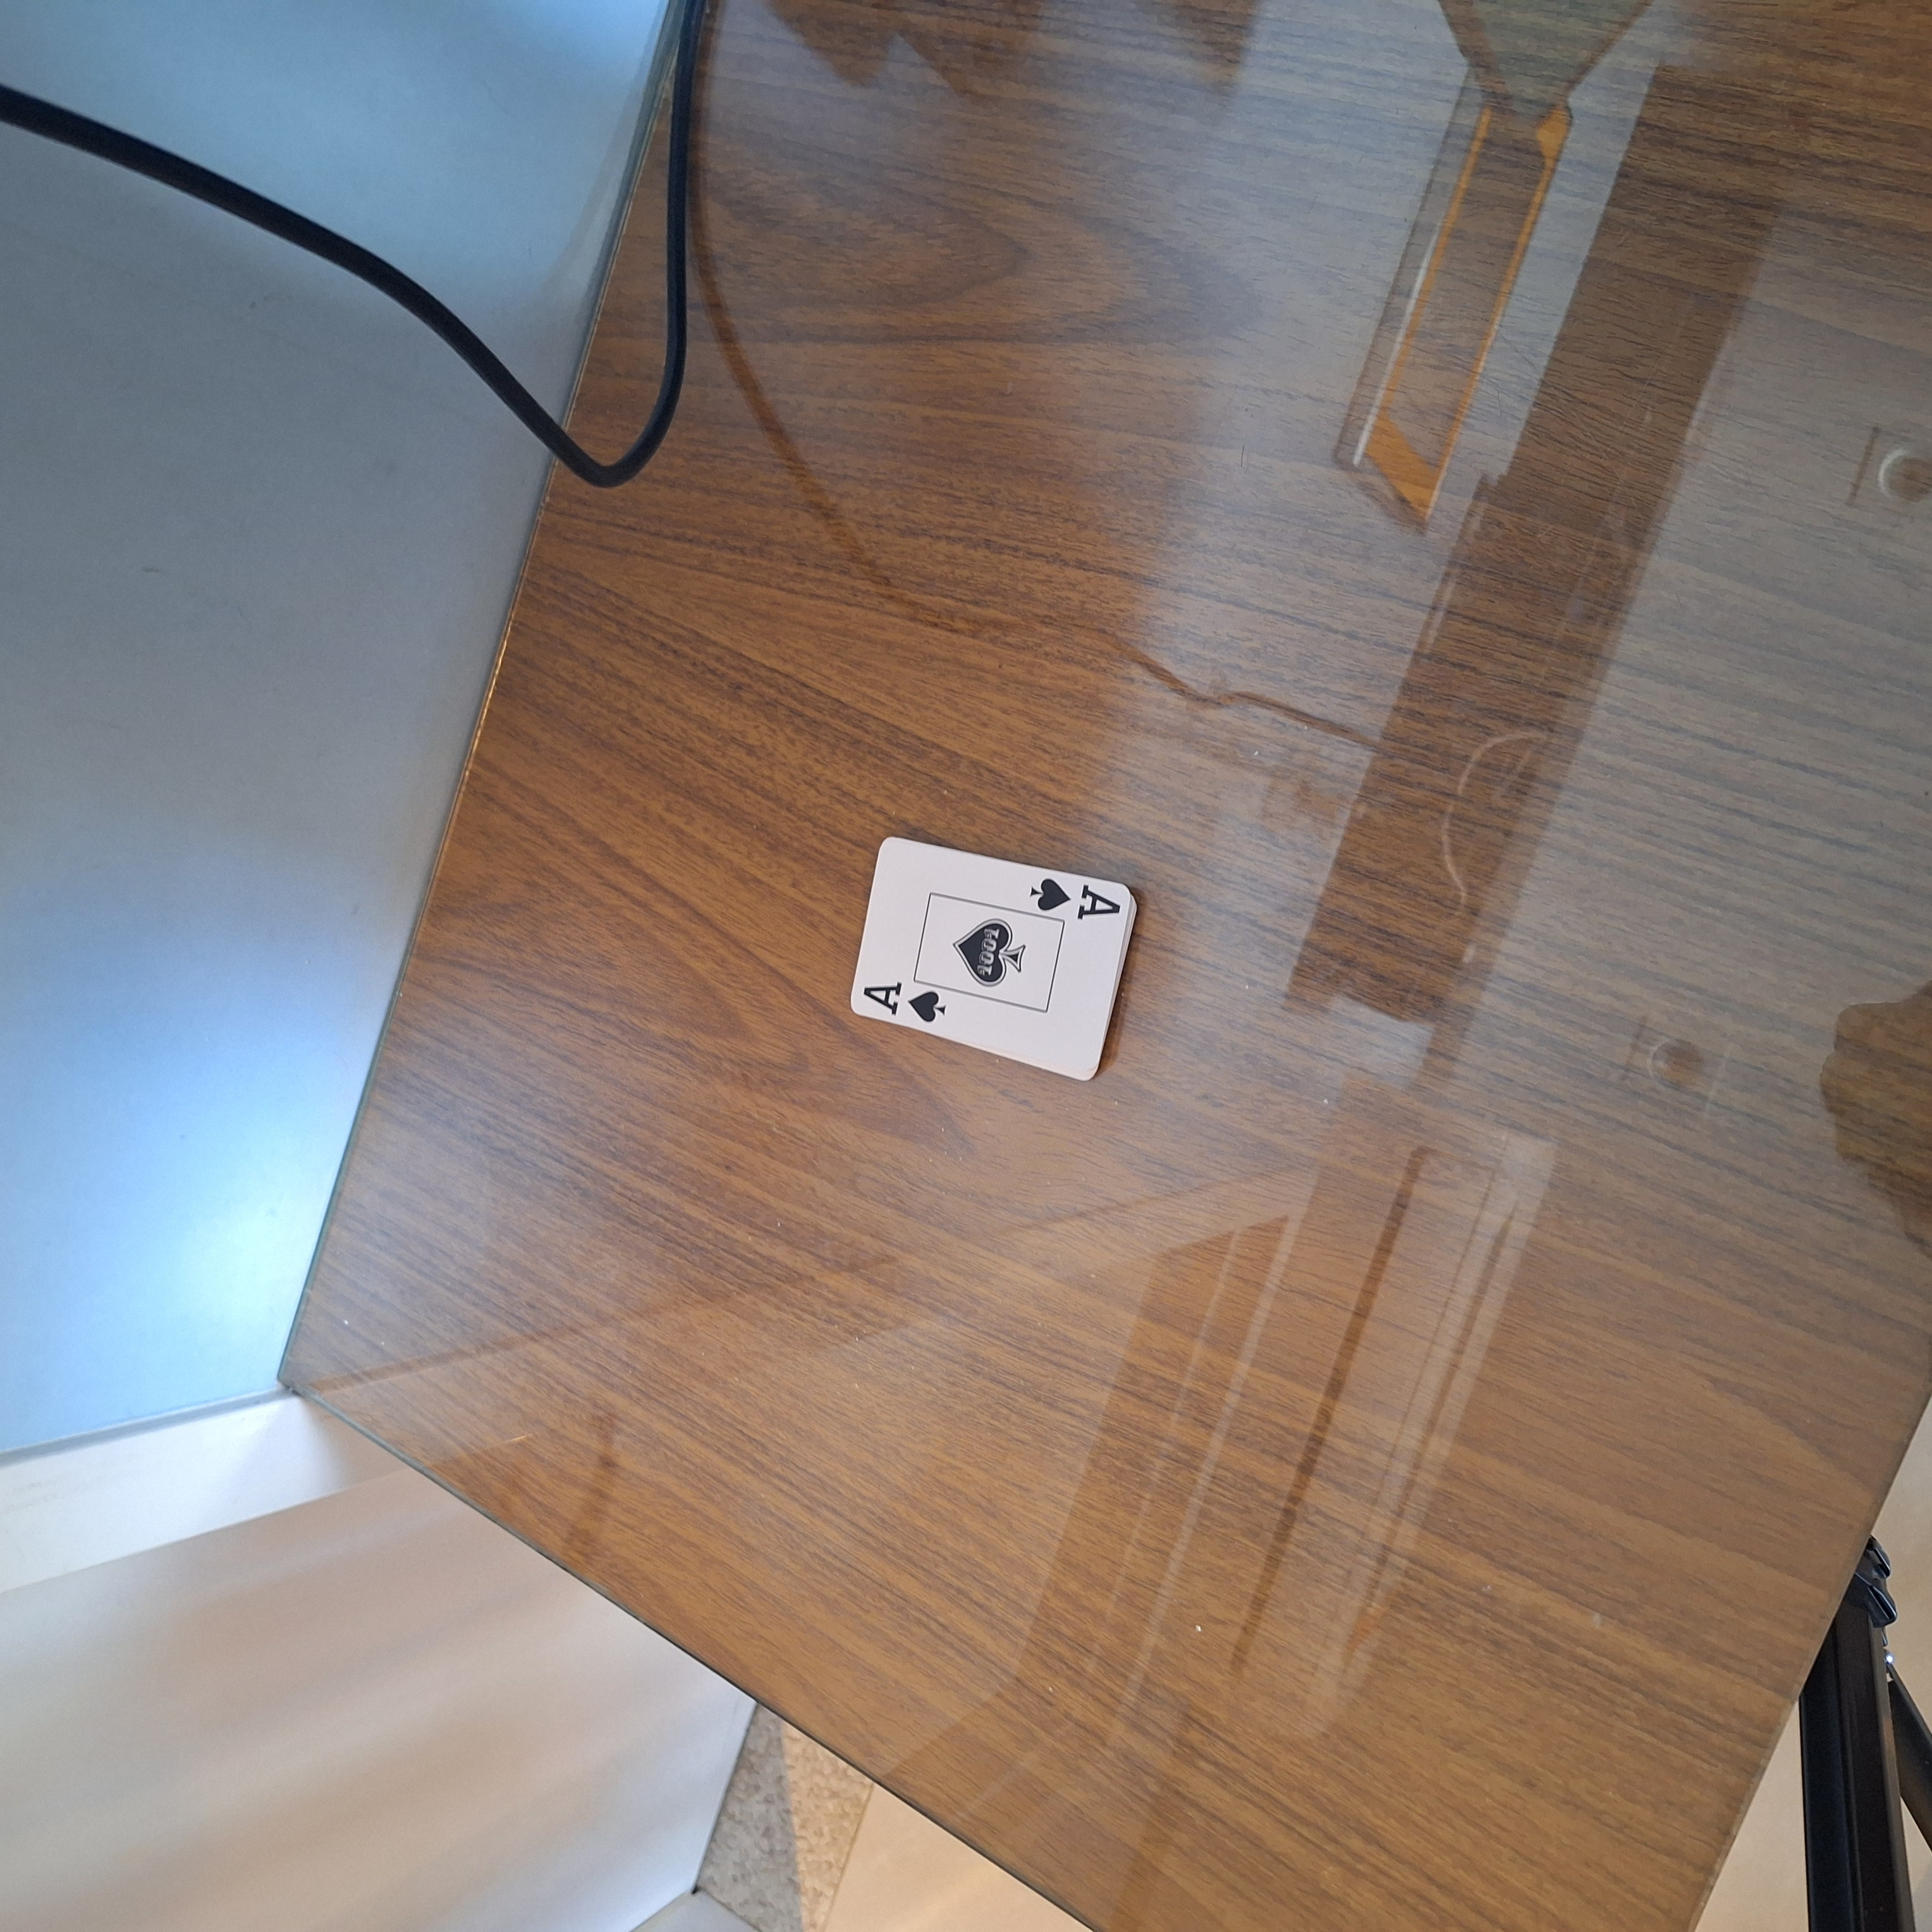AE: (1024, 870, 1125, 925), (853, 977, 950, 1030)
